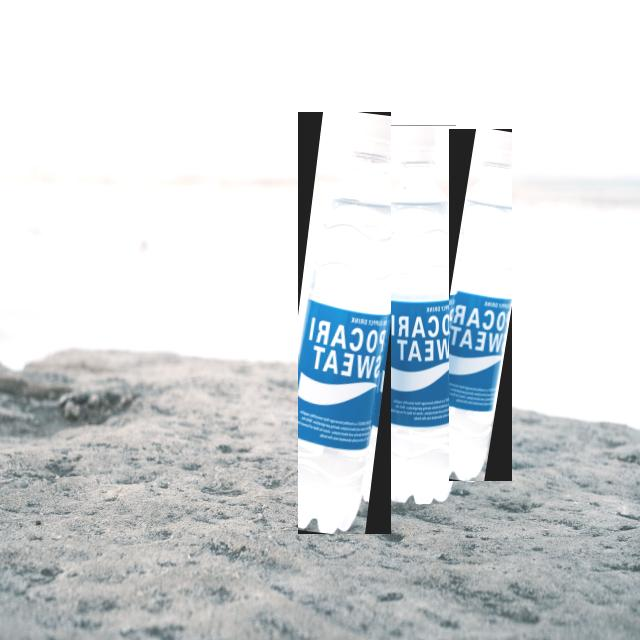Bottle: (298, 112, 389, 534), (383, 126, 454, 503), (449, 129, 510, 481)
